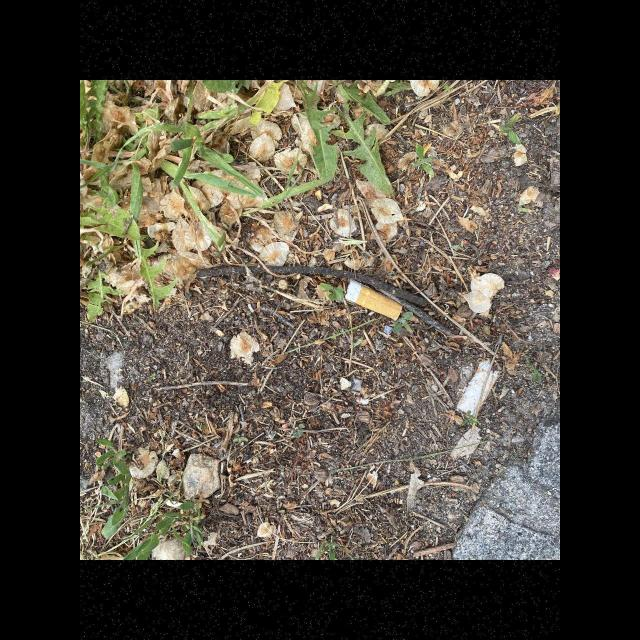cigarette: (343, 278, 403, 320), (456, 360, 499, 417)
